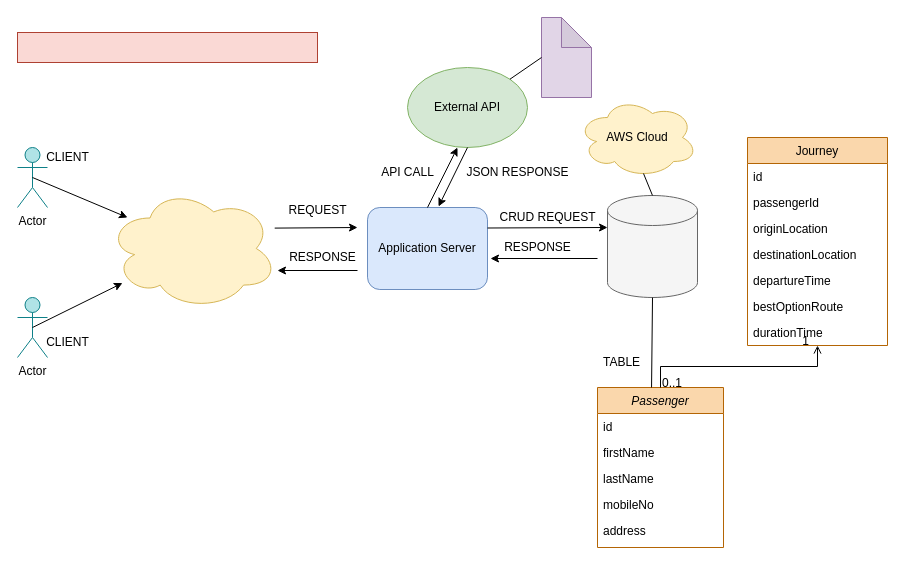
Some shapes in this 905 by 565 pixel diagram are drawn without their labels. Here are the shapes that lost their labels. From the top down, the box of each, then its label:
(16, 32, 318, 62): Journey Micro service - Architecture
(540, 16, 592, 98): JSON
(106, 186, 278, 310): Internet
(606, 194, 698, 298): DynamoDB
